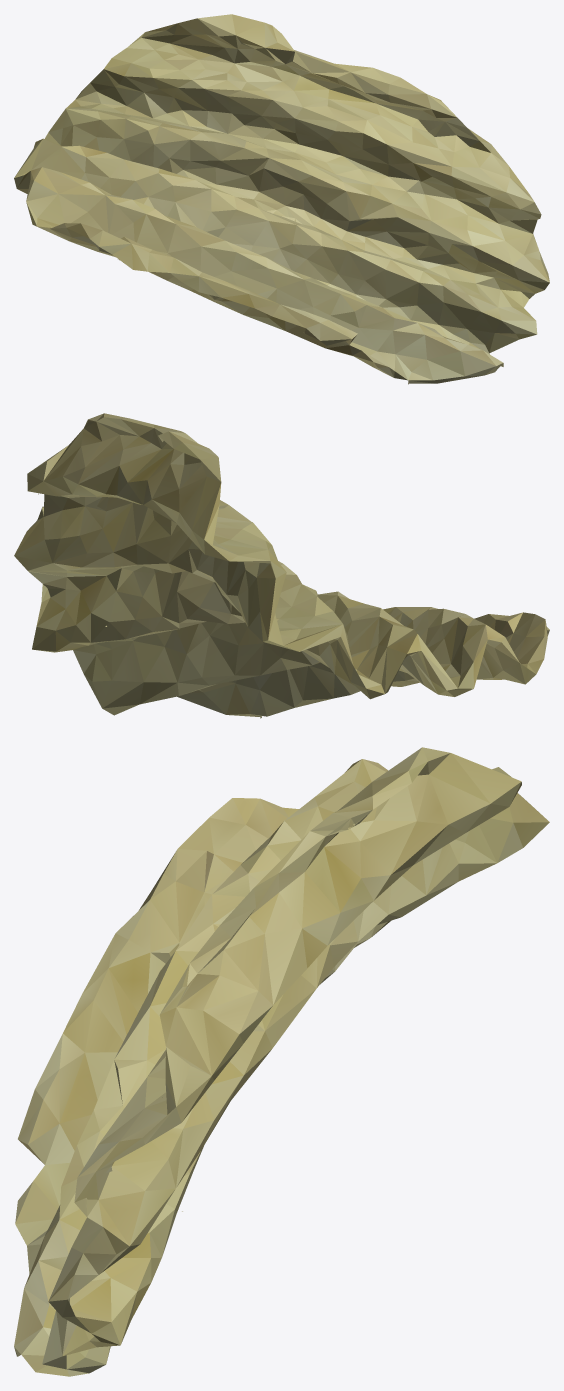
The picture shows the model from 3 angles, top to bottom: view 1: azimuth 30°, elevation 25°; view 2: azimuth 150°, elevation 25°; view 3: azimuth 270°, elevation 25°; orthographic projection. The views are drawn at different scales.
Visible parts, largest first — view 1: mesh; view 2: mesh; view 3: mesh.
Boxes of the visible parts, x1,y1,x2,y2 form: mesh: [14, 14, 549, 384]; mesh: [14, 413, 549, 718]; mesh: [14, 747, 549, 1376].
Bounding box in the file's own units: 2.07 × 1.39 × 1.39.
1 material, 1 textured.
